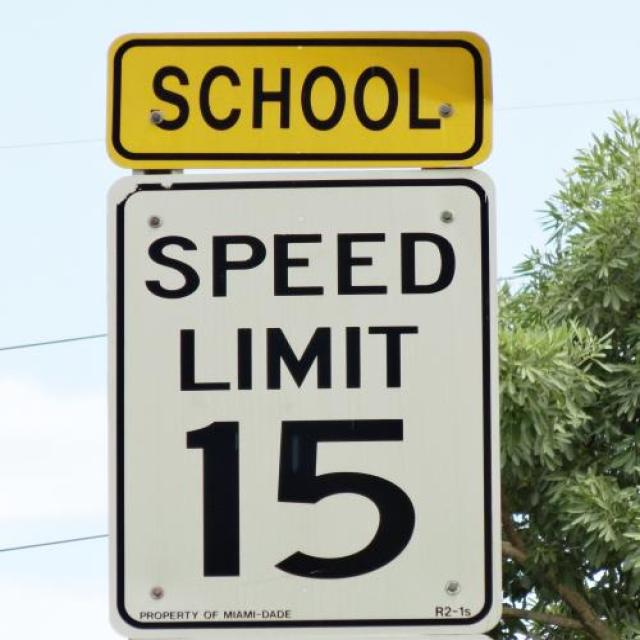speedLimit15: (112, 172, 500, 631)
